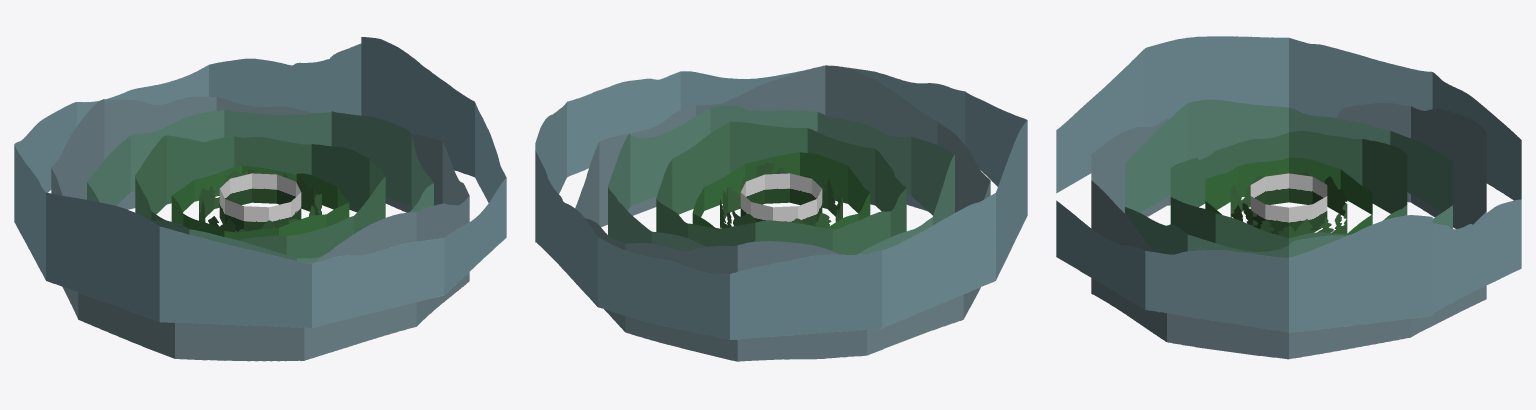
The model's file is mountain_cylinders.fbx.
3 views of the same model, side by side, from view 1: azimuth 30°, elevation 25°; view 2: azimuth 150°, elevation 25°; view 3: azimuth 270°, elevation 25° (orthographic).
Parts seen in each view (by area): view 1: mountain_01_cylinder, mountain_02_cylinder, mountain_03_cylinder, mountain_04_cylinder, mountain_05_cylinder, mounatin_07_cylinder, mountain_06_cylinder; view 2: mountain_01_cylinder, mountain_02_cylinder, mountain_04_cylinder, mountain_03_cylinder, mountain_05_cylinder, mounatin_07_cylinder, mountain_06_cylinder; view 3: mountain_01_cylinder, mountain_02_cylinder, mountain_03_cylinder, mountain_04_cylinder, mountain_05_cylinder, mounatin_07_cylinder, mountain_06_cylinder.
Boxes of the visible parts, left/top/right/bottom form: mountain_01_cylinder: left=14, top=37, right=506, bottom=327; mountain_02_cylinder: left=51, top=96, right=469, bottom=361; mountain_03_cylinder: left=87, top=110, right=433, bottom=263; mountain_04_cylinder: left=135, top=135, right=385, bottom=258; mountain_05_cylinder: left=171, top=165, right=349, bottom=240; mounatin_07_cylinder: left=219, top=173, right=301, bottom=231; mountain_06_cylinder: left=199, top=169, right=321, bottom=232; mountain_01_cylinder: left=535, top=65, right=1027, bottom=339; mountain_02_cylinder: left=575, top=65, right=990, bottom=361; mountain_04_cylinder: left=656, top=121, right=906, bottom=254; mountain_03_cylinder: left=608, top=105, right=954, bottom=254; mountain_05_cylinder: left=692, top=152, right=870, bottom=229; mounatin_07_cylinder: left=740, top=173, right=822, bottom=226; mountain_06_cylinder: left=720, top=162, right=842, bottom=228; mountain_01_cylinder: left=1056, top=36, right=1521, bottom=332; mountain_02_cylinder: left=1091, top=103, right=1486, bottom=359; mountain_03_cylinder: left=1125, top=99, right=1452, bottom=257; mountain_04_cylinder: left=1170, top=130, right=1407, bottom=251; mountain_05_cylinder: left=1205, top=157, right=1372, bottom=234; mounatin_07_cylinder: left=1250, top=173, right=1327, bottom=234; mountain_06_cylinder: left=1230, top=171, right=1347, bottom=237.
Bounding box in the file's own units: 46.02 × 18.19 × 43.77.
Materials: 7 (7 with a texture image).
